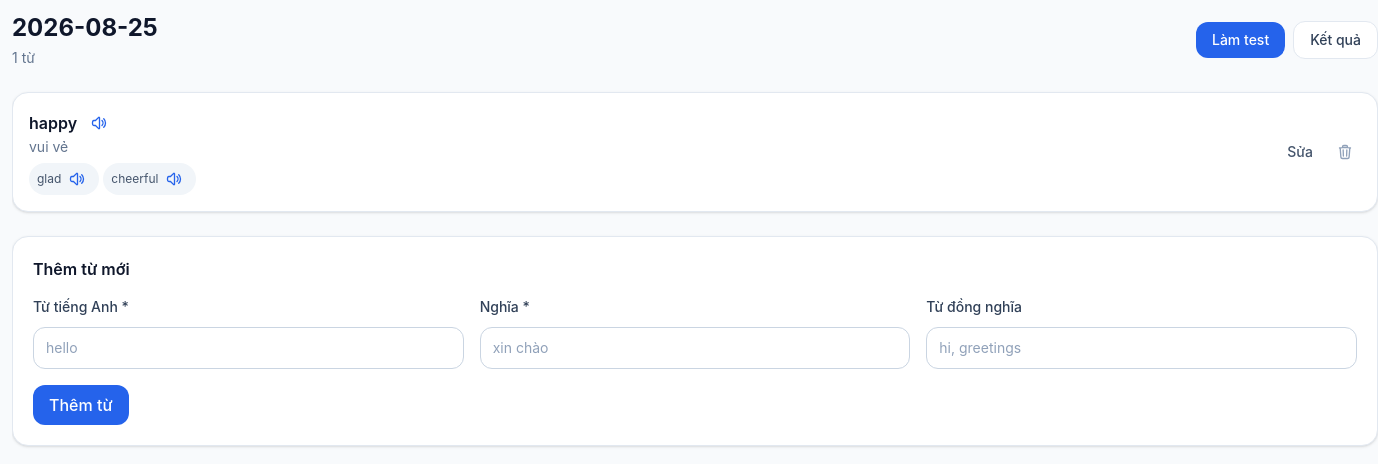
it: DaySetPage › bấm Huỷ khi đang sửa → về chế độ thêm
Expected: the text "happy" is shown, [29,111,77,135]
Click the button with aria-label "Sửa happy".
click(1300, 152)  # box [1275,134,1325,170]
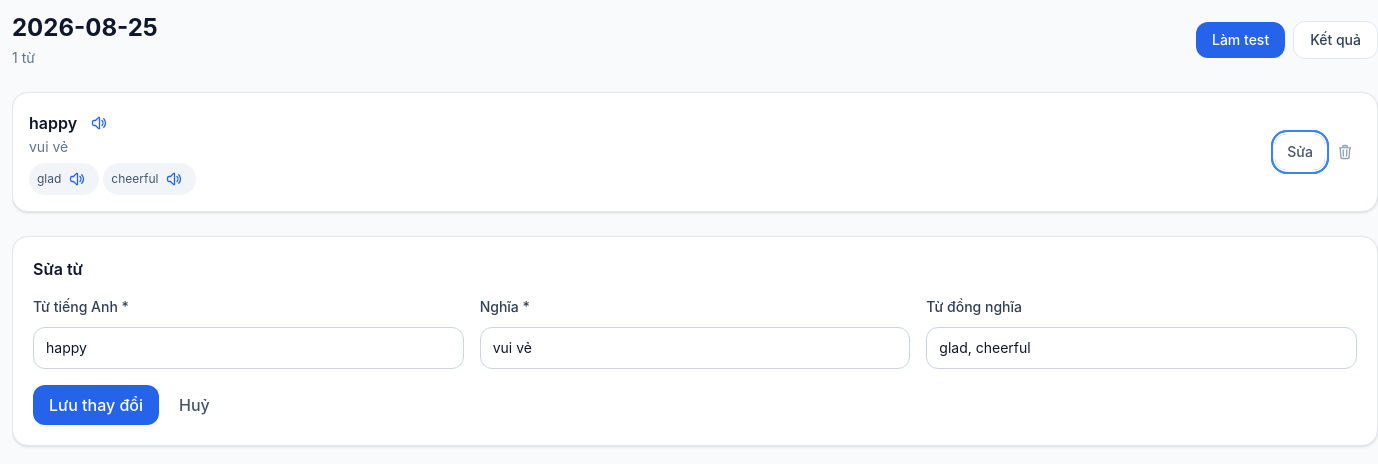
Click the button "Huỷ".
click(194, 405)  # box [167,385,222,425]
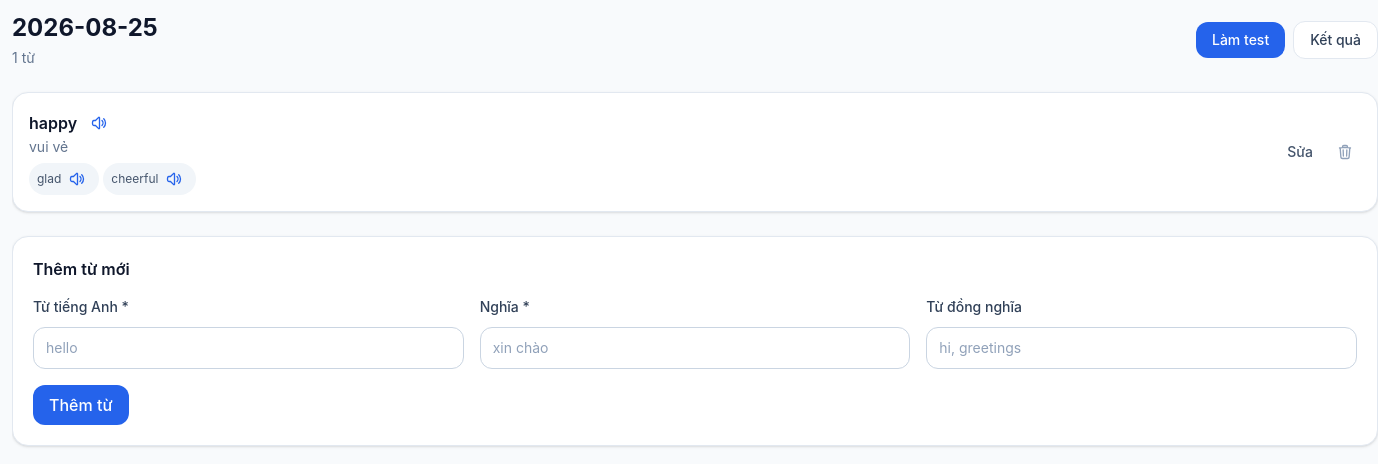
Expected: the button "Thêm từ" is shown, [33,385,128,425]
